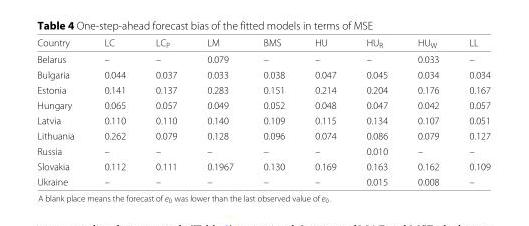table: (36, 36, 489, 187)
table column: (191, 36, 247, 187), (36, 36, 88, 187), (88, 36, 140, 187), (247, 36, 299, 187), (350, 36, 402, 187), (140, 36, 191, 187), (299, 36, 350, 187), (402, 36, 453, 187), (453, 36, 489, 187)
table column header: (36, 36, 489, 51)
table row: (36, 81, 489, 97), (36, 127, 489, 143), (36, 36, 489, 51), (36, 51, 489, 66), (36, 66, 489, 81), (36, 97, 489, 112), (36, 112, 489, 127), (36, 143, 489, 158), (36, 158, 489, 173), (36, 173, 489, 187)
